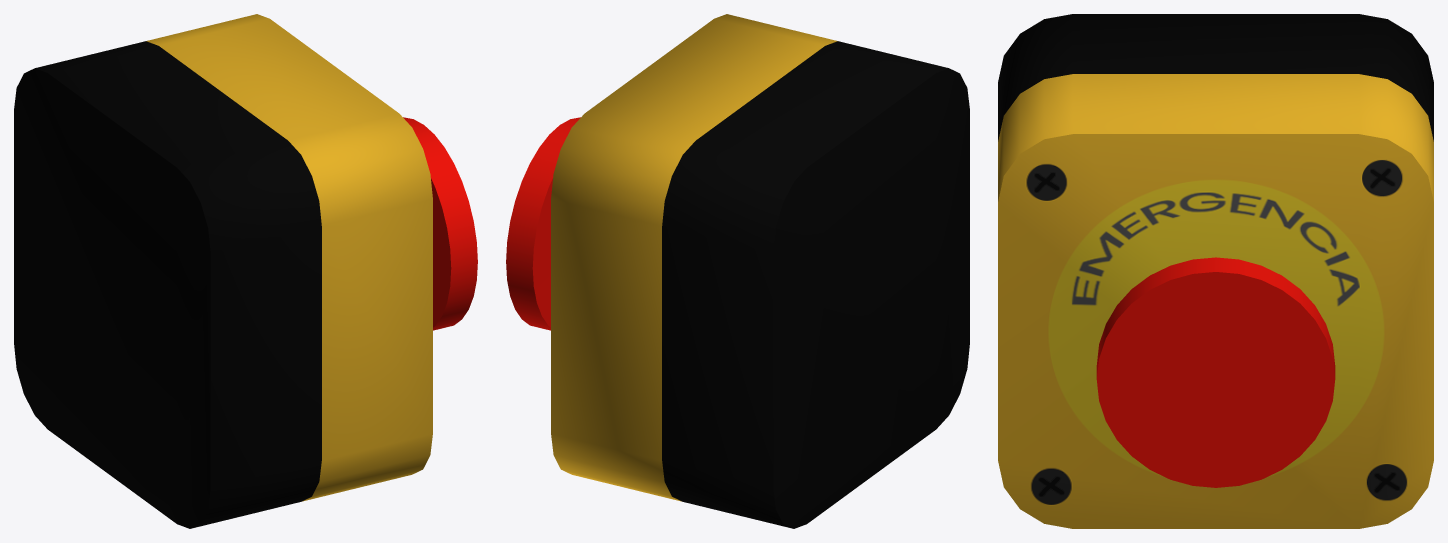
Rendered from Button.fbx.
3 views of the same model, side by side, from view 1: azimuth 30°, elevation 25°; view 2: azimuth 150°, elevation 25°; view 3: azimuth 270°, elevation 25° (orthographic). The views are drawn at different scales.
Visible parts, largest first — view 1: Box, Button; view 2: Box, Button; view 3: Box, Button.
Boxes of the visible parts, bbox=[...] form: Box: bbox=[14, 14, 432, 528]; Button: bbox=[403, 117, 477, 330]; Box: bbox=[551, 14, 969, 528]; Button: bbox=[506, 117, 580, 330]; Box: bbox=[998, 14, 1433, 528]; Button: bbox=[1096, 257, 1335, 487].
Size of the model in its own units: 183 by 200 by 200.
